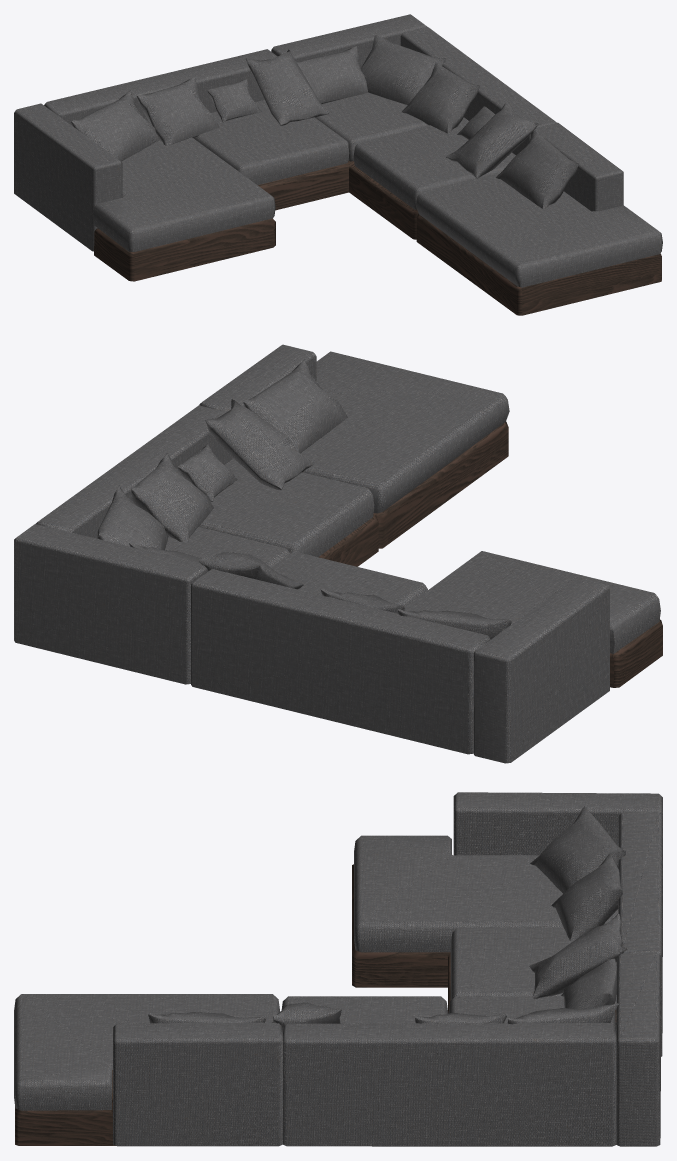
The model's file is sofa_010.fbx.
The picture shows the model from 3 angles, top to bottom: view 1: azimuth 30°, elevation 25°; view 2: azimuth 150°, elevation 25°; view 3: azimuth 270°, elevation 25°; orthographic projection. The views are drawn at different scales.
Parts seen in each view (by area): view 1: sofa_010; view 2: sofa_010; view 3: sofa_010.
Boxes of the visible parts, <box> form: sofa_010: <box>14,14,662,315</box>; sofa_010: <box>14,344,662,763</box>; sofa_010: <box>14,792,662,1146</box>.
Size of the model in its own units: 455 by 498 by 101.
